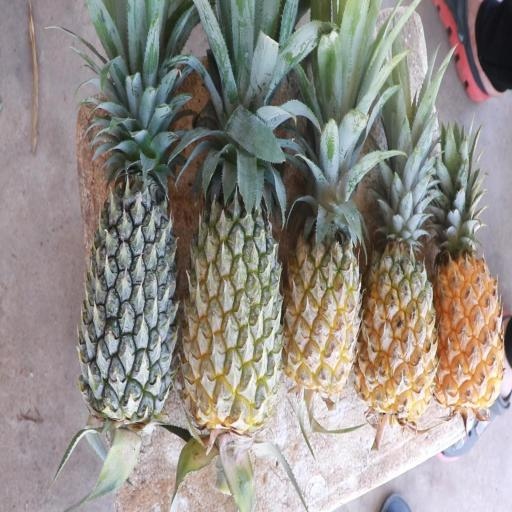------------------------------: (184, 133, 282, 439)
Pineapple - v8 v1: (286, 164, 360, 390), (363, 182, 434, 406), (431, 217, 502, 408)
